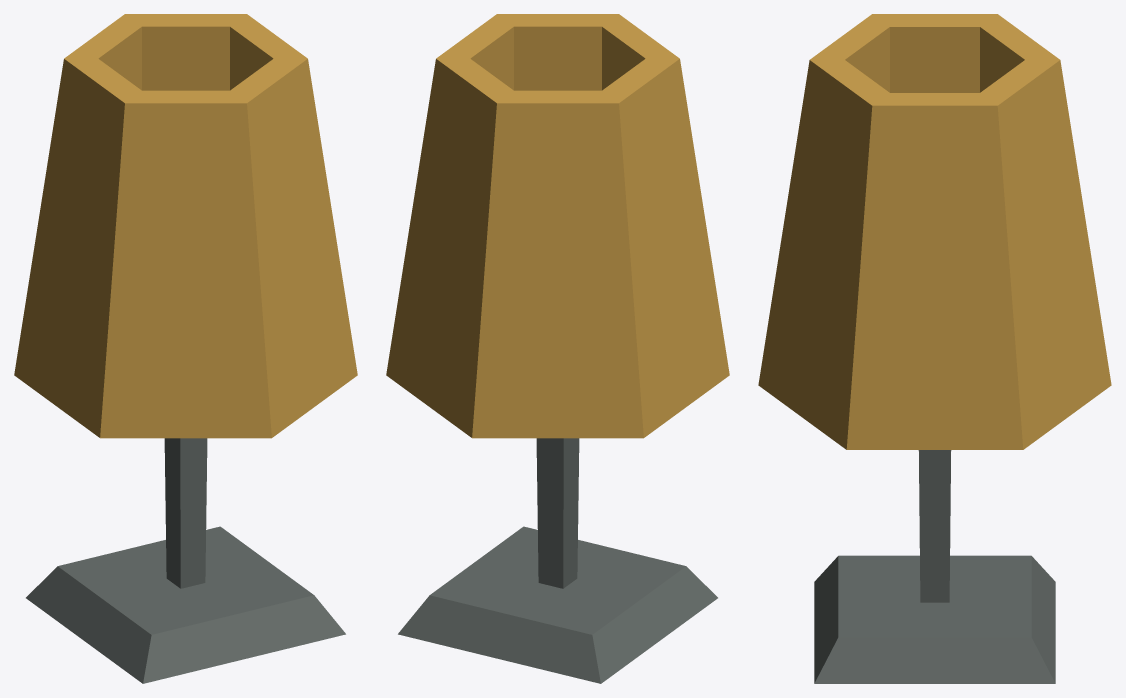
File: lampRoundTable.fbx
The picture shows the model from 3 angles, left to right: view 1: azimuth 30°, elevation 25°; view 2: azimuth 150°, elevation 25°; view 3: azimuth 270°, elevation 25°; orthographic projection. The views are drawn at different scales.
Parts seen in each view (by area): view 1: lampRoundTable.004; view 2: lampRoundTable.004; view 3: lampRoundTable.004.
Boxes of the visible parts, left/top/right/bottom form: lampRoundTable.004: left=14, top=14, right=357, bottom=683; lampRoundTable.004: left=386, top=14, right=729, bottom=683; lampRoundTable.004: left=758, top=14, right=1111, bottom=683.
Bounding box in the file's own units: 15.2 × 31.42 × 17.56.
